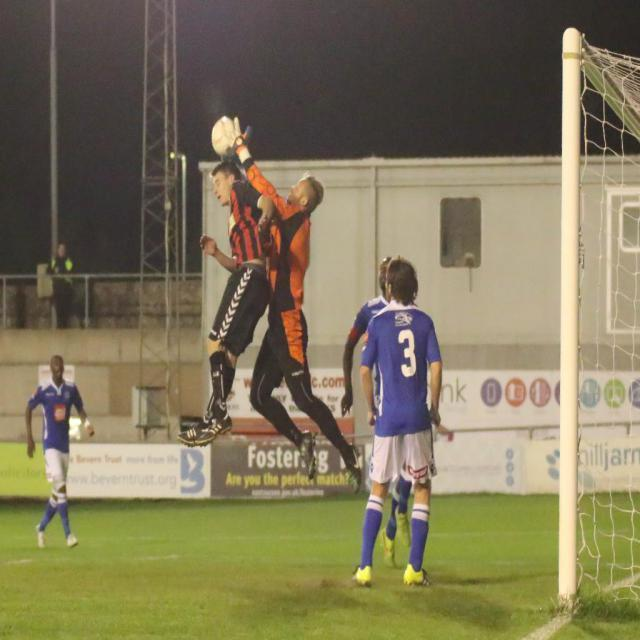ball: (212, 117, 235, 156)
